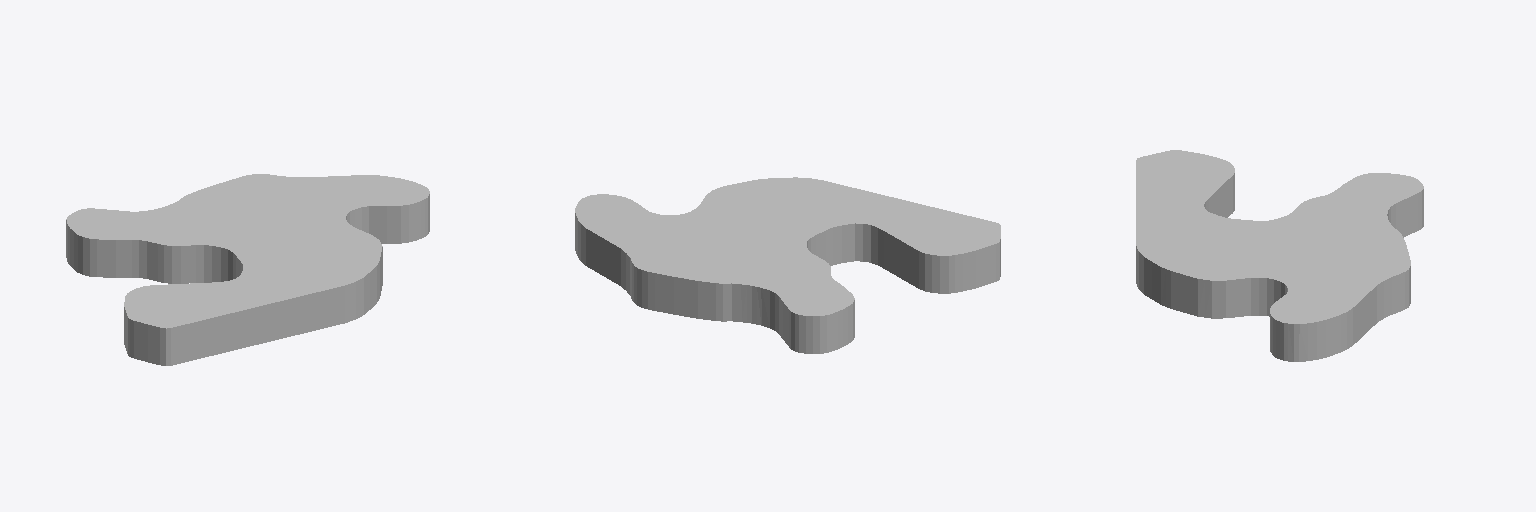
File: marg.int.obj
The picture shows the model from 3 angles: view 1: azimuth 30°, elevation 25°; view 2: azimuth 150°, elevation 25°; view 3: azimuth 270°, elevation 25°; orthographic projection.
Visible parts, largest first — view 1: margenes.int_Cube.002; view 2: margenes.int_Cube.002; view 3: margenes.int_Cube.002.
Boxes of the visible parts, x1,y1,x2,y2 form: margenes.int_Cube.002: [66, 174, 429, 365]; margenes.int_Cube.002: [575, 177, 1000, 353]; margenes.int_Cube.002: [1136, 150, 1423, 361].
Bounding box in the file's own units: 1016 × 103 × 708.